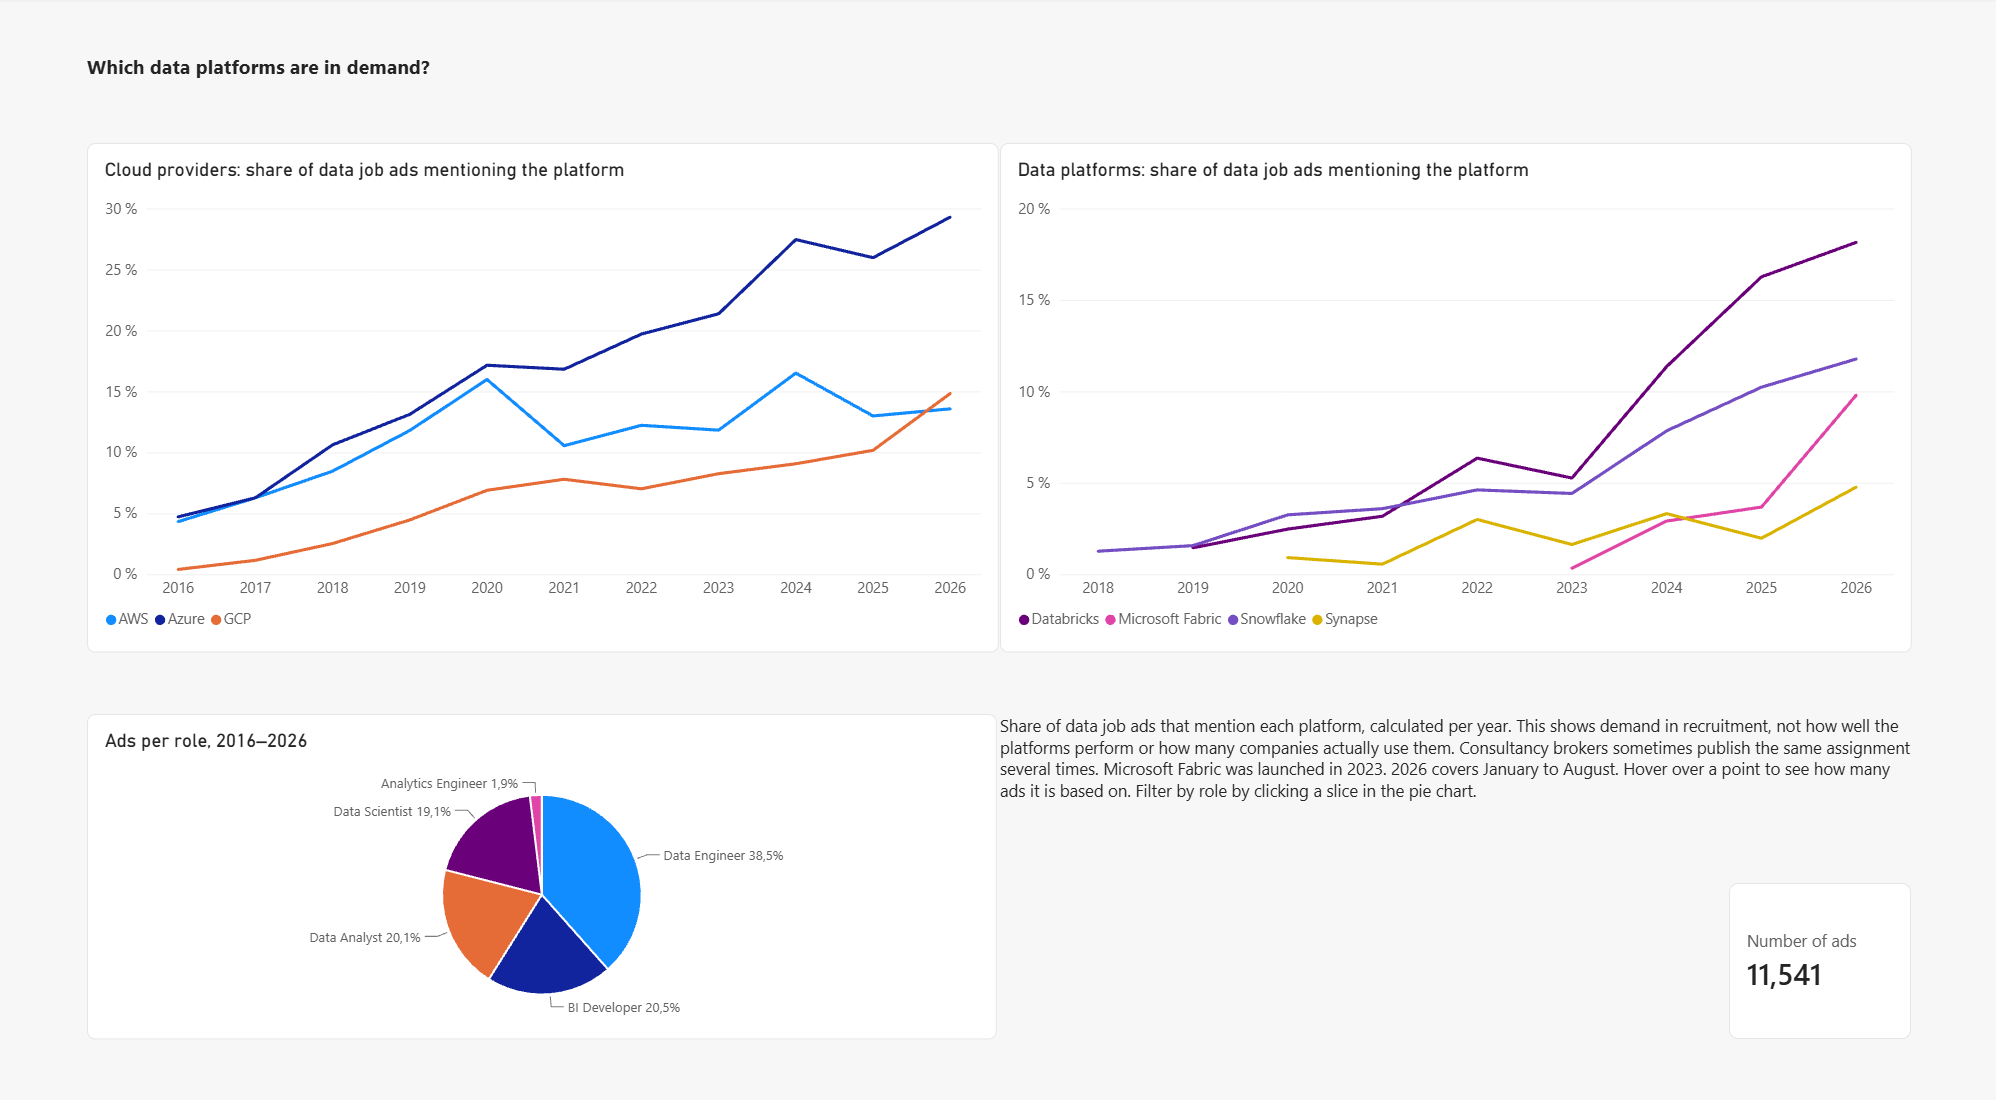

Layout of this report page (visuals, bound fields, positions):
{"tool":"powerbi","page":{"name":"Platforms in demand","canvas":[1920,1080],"ordinal":1},"visuals":[{"type":"lineChart","title":"Cloud providers: share of data job ads mentioning the platform","fields":{"Category":["dim_date.year"],"Series":["dim_skill.skill"],"Y":["_Measures.Skill share"]},"box":[83.6,140.3,876.9,489.7],"z":0},{"type":"lineChart","title":"Data platforms: share of data job ads mentioning the platform","fields":{"Category":["dim_date.year"],"Series":["dim_skill.skill"],"Y":["_Measures.Skill share"]},"box":[961.5,140.3,876.9,489.7],"z":1},{"type":"textbox","box":[83.6,53.7,877.9,46.8],"z":2},{"type":"pieChart","title":"Ads per role, 2016–2026","fields":{"Category":["dim_role.role"],"Y":["_Measures.Ads"]},"box":[83.6,689.8,874.9,312.5],"z":3},{"type":"textbox","box":[961.5,689.8,875.9,97.5],"z":4},{"type":"cardVisual","fields":{"Data":["_Measures.Ads (text)"]},"box":[1663.2,852,175.2,150.3],"z":5}]}

Visuals, with their boxes in screenshot pixels (x1, y1, x2, y2), scaled from the page's 1920x1080 canvas onto the 1996x1100 screenshot:
"Cloud providers: share of data job ads mentioning the platform" lineChart: crop(87, 143, 999, 642)
"Data platforms: share of data job ads mentioning the platform" lineChart: crop(1000, 143, 1911, 642)
textbox: crop(87, 55, 1000, 102)
"Ads per role, 2016–2026" pieChart: crop(87, 703, 996, 1021)
textbox: crop(1000, 703, 1910, 802)
cardVisual - _Measures.Ads (text): crop(1729, 868, 1911, 1021)
